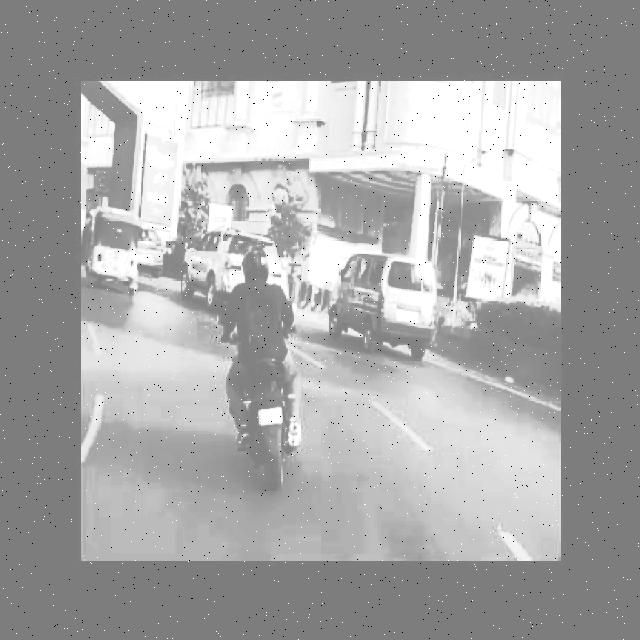Car: (326, 248, 444, 372), (177, 216, 283, 320)
